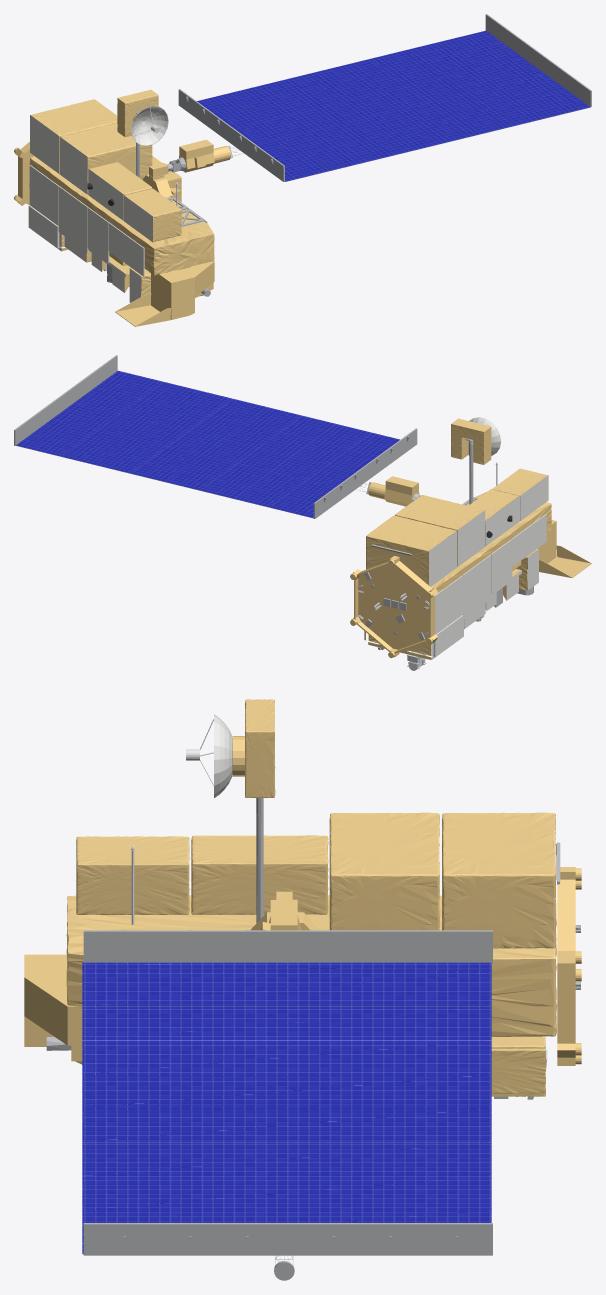
The model's file is terra.glb.
The picture shows the model from 3 angles, top to bottom: view 1: azimuth 30°, elevation 25°; view 2: azimuth 150°, elevation 25°; view 3: azimuth 270°, elevation 25°; orthographic projection. The views are drawn at different scales.
Visible parts, largest first — view 1: Terra_vFINAL [Layer17], Terra_vFINAL [Layer15], Terra_vFINAL [Layer18], Terra_vFINAL [Layer16], Terra_vFINAL [Layer1], Terra_vFINAL [Layer13], Terra_vFINAL [Layer2], Terra_vFINAL [Layer11], Terra_vFINAL [Layer20], Terra_vFINAL [Layer9], Terra_vFINAL [Layer12], Terra_vFINAL [Layer19]; view 2: Terra_vFINAL [Layer17], Terra_vFINAL [Layer15], Terra_vFINAL [Layer18], Terra_vFINAL [Layer16], Terra_vFINAL [Layer2], Terra_vFINAL [Layer13], Terra_vFINAL [Layer1], Terra_vFINAL [Layer9], Terra_vFINAL [Layer19], Terra_vFINAL [Layer11], Terra_vFINAL [Layer12]; view 3: Terra_vFINAL [Layer17], Terra_vFINAL [Layer16], Terra_vFINAL [Layer2], Terra_vFINAL [Layer13], Terra_vFINAL [Layer1], Terra_vFINAL [Layer18], Terra_vFINAL [Layer12], Terra_vFINAL [Layer11], Terra_vFINAL [Layer9], Terra_vFINAL [Layer14], Terra_vFINAL [Layer19], Terra_vFINAL [Layer20].
Boxes of the visible parts, box(x1,y1,x2,y2) form: Terra_vFINAL [Layer17]: box(197, 30, 590, 181); Terra_vFINAL [Layer15]: box(28, 115, 152, 302); Terra_vFINAL [Layer18]: box(14, 112, 230, 326); Terra_vFINAL [Layer16]: box(178, 14, 591, 181); Terra_vFINAL [Layer1]: box(29, 156, 214, 275); Terra_vFINAL [Layer13]: box(60, 123, 152, 194); Terra_vFINAL [Layer2]: box(31, 99, 117, 173); Terra_vFINAL [Layer11]: box(124, 188, 181, 242); Terra_vFINAL [Layer20]: box(131, 105, 168, 145); Terra_vFINAL [Layer9]: box(117, 89, 158, 137); Terra_vFINAL [Layer12]: box(89, 162, 152, 219); Terra_vFINAL [Layer19]: box(107, 110, 210, 310); Terra_vFINAL [Layer17]: box(16, 370, 399, 517); Terra_vFINAL [Layer15]: box(429, 475, 548, 659); Terra_vFINAL [Layer18]: box(350, 476, 591, 658); Terra_vFINAL [Layer16]: box(14, 355, 417, 518); Terra_vFINAL [Layer2]: box(366, 515, 456, 585); Terra_vFINAL [Layer13]: box(395, 495, 484, 566); Terra_vFINAL [Layer1]: box(431, 492, 551, 592); Terra_vFINAL [Layer9]: box(451, 418, 491, 464); Terra_vFINAL [Layer19]: box(357, 438, 533, 655); Terra_vFINAL [Layer11]: box(492, 468, 547, 520); Terra_vFINAL [Layer12]: box(468, 489, 518, 545); Terra_vFINAL [Layer17]: box(82, 962, 491, 1253); Terra_vFINAL [Layer16]: box(82, 930, 492, 1280); Terra_vFINAL [Layer2]: box(442, 812, 556, 948); Terra_vFINAL [Layer13]: box(329, 812, 439, 930); Terra_vFINAL [Layer1]: box(66, 895, 557, 1036); Terra_vFINAL [Layer18]: box(24, 736, 581, 1065); Terra_vFINAL [Layer12]: box(191, 835, 328, 914); Terra_vFINAL [Layer11]: box(76, 836, 189, 914); Terra_vFINAL [Layer9]: box(245, 699, 275, 797); Terra_vFINAL [Layer14]: box(491, 1048, 545, 1096); Terra_vFINAL [Layer19]: box(46, 798, 580, 1099); Terra_vFINAL [Layer20]: box(186, 714, 232, 797).
Size of the model in its own units: 1 by 0.3944 by 0.5228.
11 materials, 1 textured.
